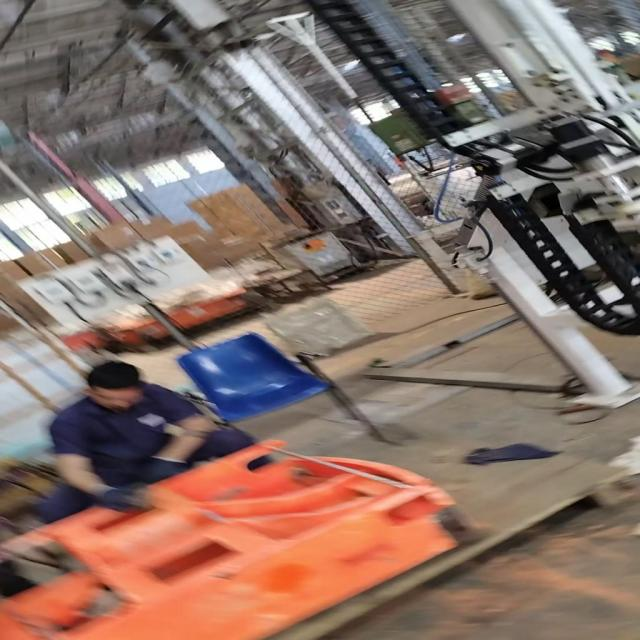Gloves-Detection: (129, 450, 182, 486), (97, 487, 143, 515)
